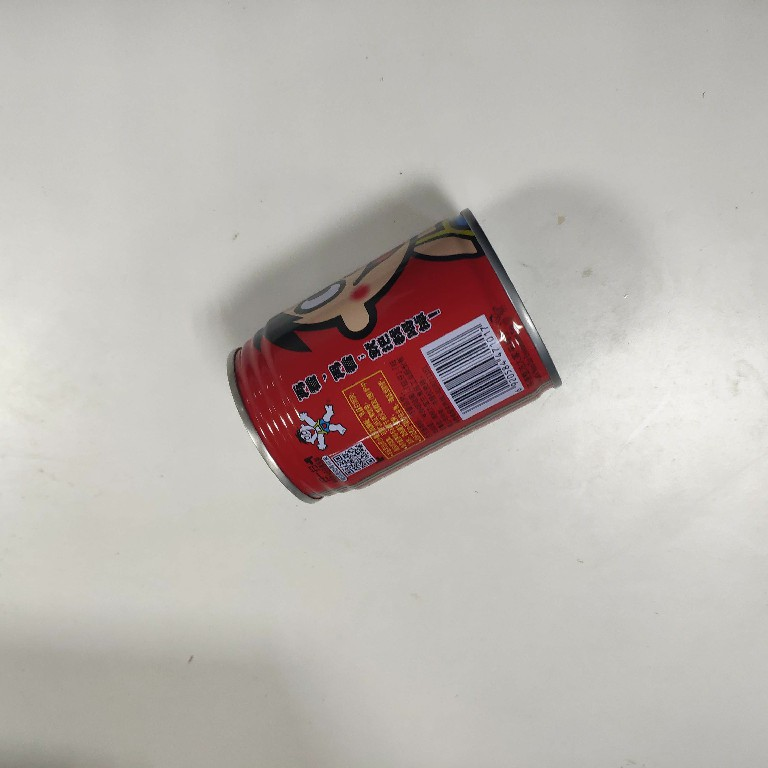can: (224, 206, 565, 507)
